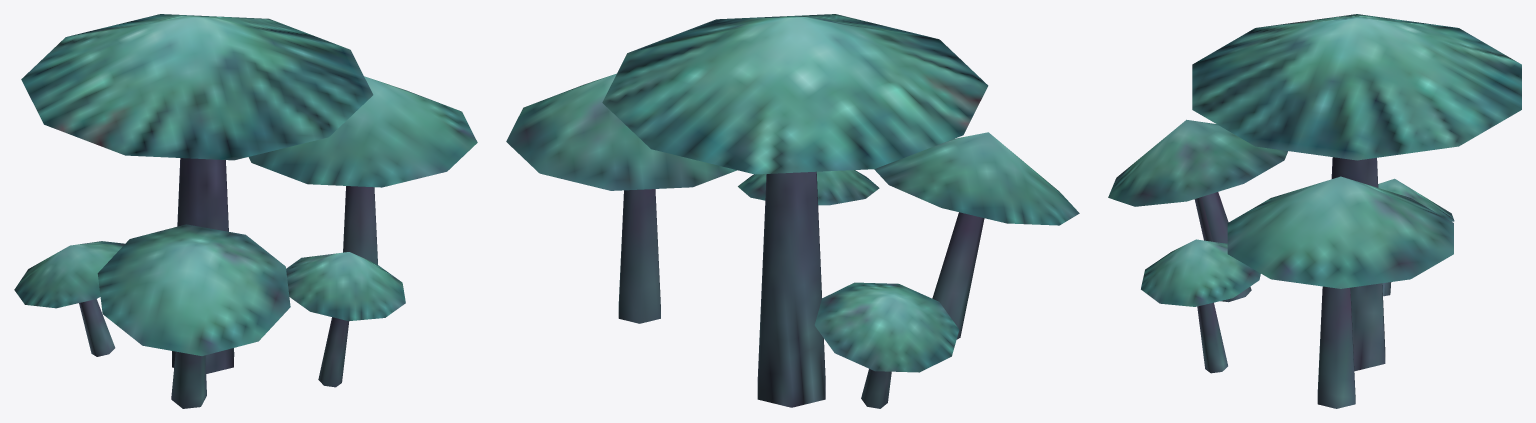
The model's file is Scene_Mushrooms_01.FBX.
3 views of the same model, side by side, from view 1: azimuth 30°, elevation 25°; view 2: azimuth 150°, elevation 25°; view 3: azimuth 270°, elevation 25° (orthographic). The views are drawn at different scales.
Parts seen in each view (by area): view 1: Scene_Mushrooms_01; view 2: Scene_Mushrooms_01; view 3: Scene_Mushrooms_01.
Boxes of the visible parts, x1,y1,x2,y2 form: Scene_Mushrooms_01: (14, 14, 477, 408); Scene_Mushrooms_01: (506, 14, 1079, 408); Scene_Mushrooms_01: (1108, 14, 1521, 408).
Bounding box in the file's own units: 1.4 × 1.08 × 1.2.
